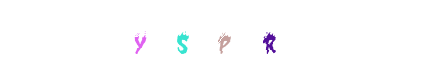P: (175, 0, 255, 80)
R: (229, 0, 309, 80)
S: (160, 0, 240, 80)
Y: (142, 0, 222, 80)
